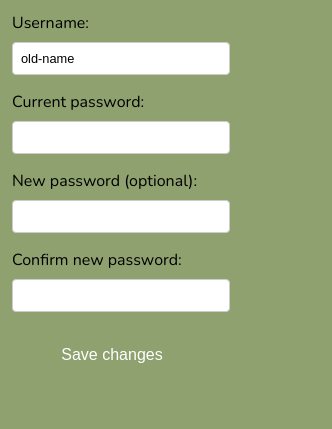
it: account settings › validates password confirmation and displays server errors without losing input
The width and height of the screenshot is (332, 429).
Expected: the field labelled "Username:" is shown, left=12, top=42, right=230, bottom=75
Type "wrong" into the password field labelled "Current password:" at (121, 138), box left=12, top=121, right=230, bottom=154
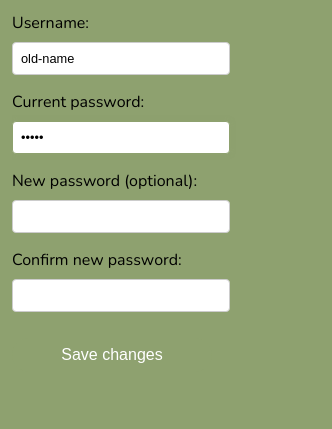
Type "new-secret" into the password field labelled "New password (optional):" at (121, 216), box left=12, top=200, right=230, bottom=233
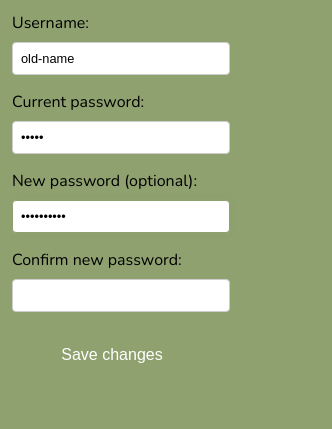
Type "different" into the password field labelled "Confirm new password:" at (121, 296), box left=12, top=279, right=230, bottom=312
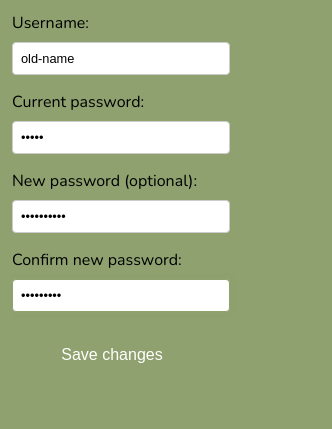
Click the button "Save changes" at (112, 355), box left=12, top=338, right=212, bottom=372
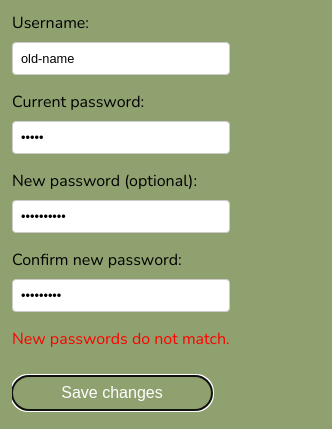
Expected: the message reads "New passwords do not match.", left=12, top=328, right=230, bottom=350
Type "new-secret" into the password field labelled "Confirm new password:" at (121, 296), box left=12, top=279, right=230, bottom=312
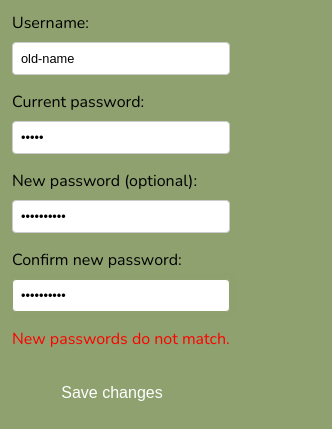
Click the button "Save changes" at (112, 393), box left=12, top=376, right=212, bottom=410
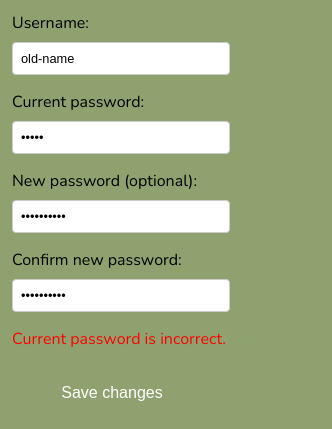
Expected: the field labelled "Username:" holds "old-name", left=12, top=42, right=230, bottom=75
Expected: the message reads "Current password is incorrect.", left=12, top=328, right=226, bottom=350
